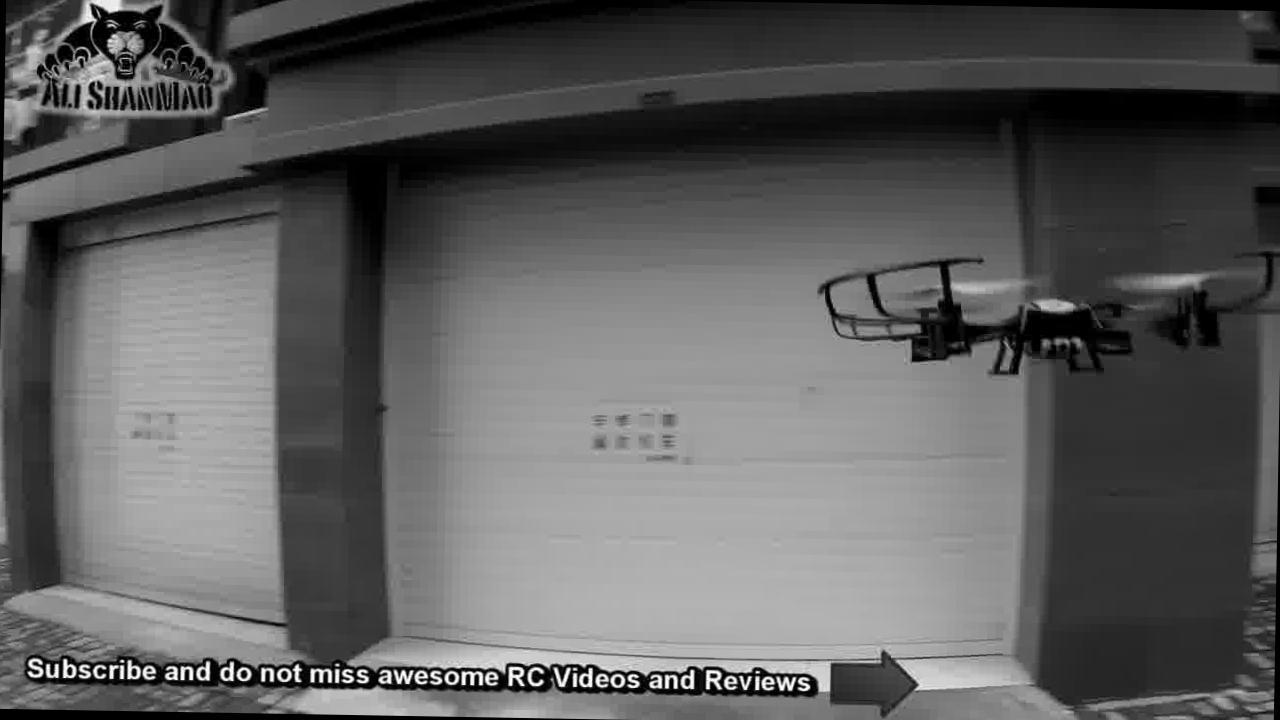drone: (801, 199, 1279, 388)
